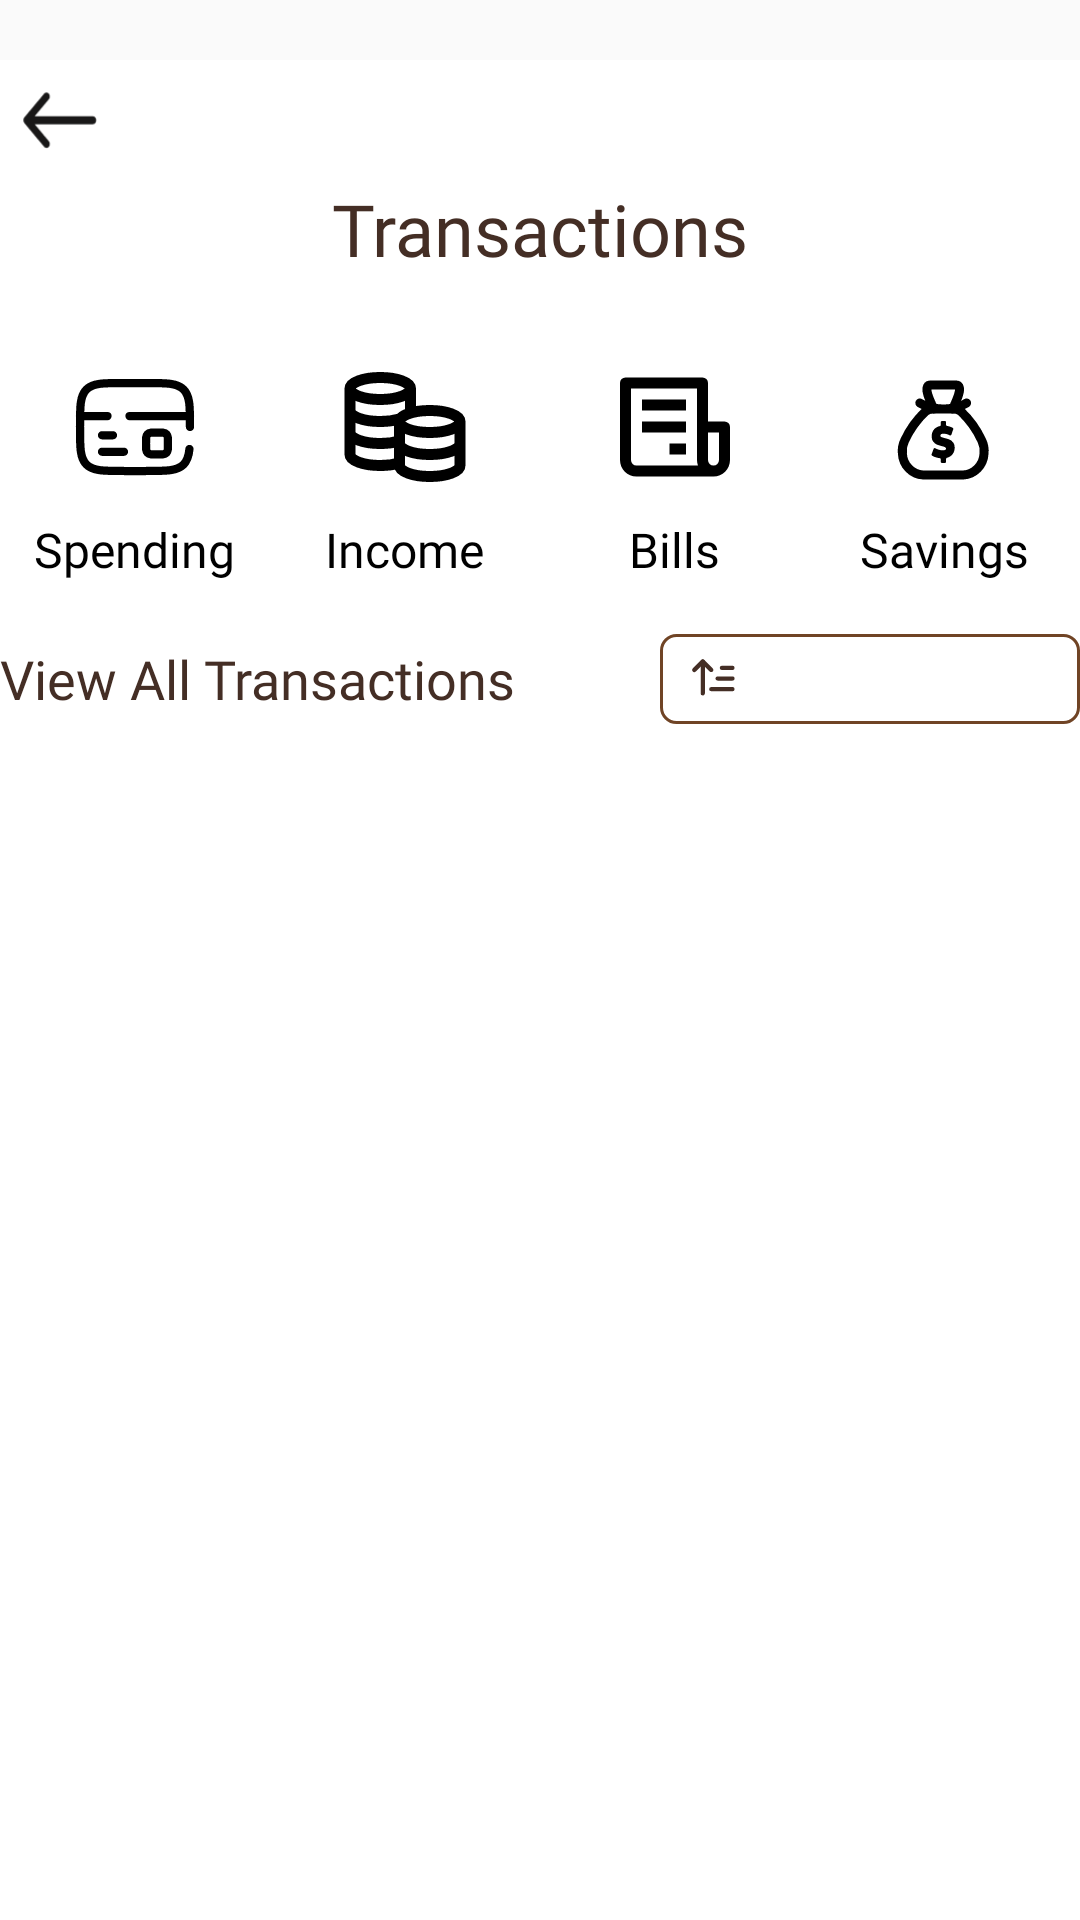

Where icons sit on this 1080px×1920px app screen, as (x1, y1, x2, y2):
card: (75, 379, 194, 476)
left arrow: (23, 92, 97, 148)
money bag: (897, 380, 989, 480)
